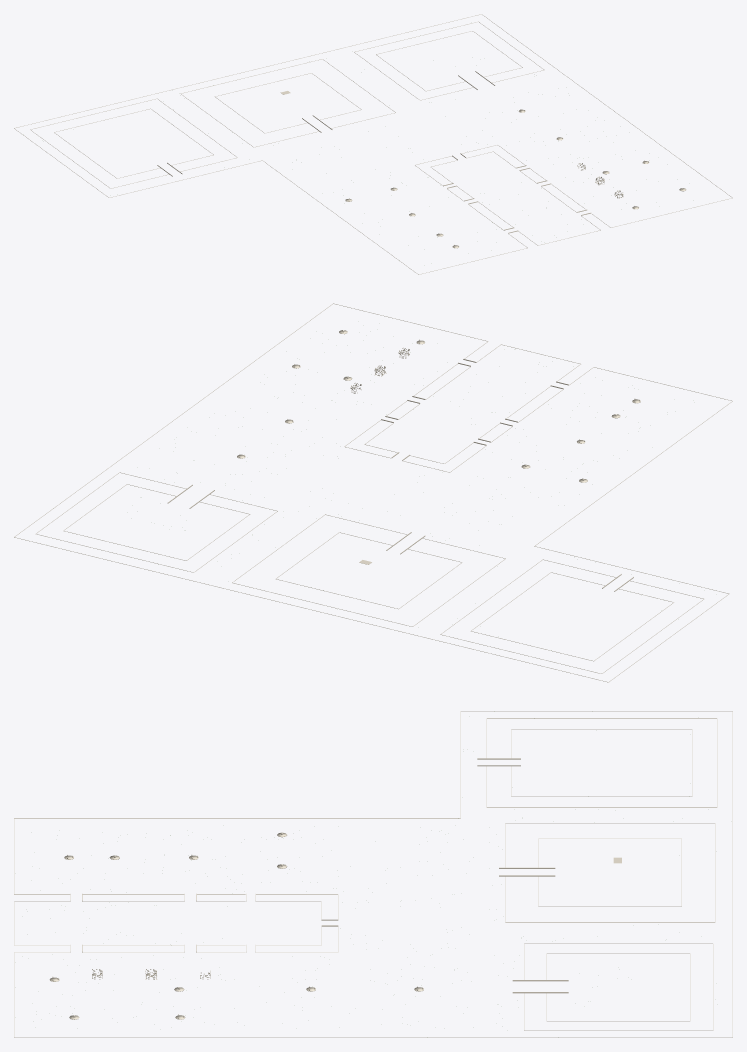
File: Neris-10.glb
The picture shows the model from 3 angles, top to bottom: view 1: azimuth 30°, elevation 25°; view 2: azimuth 150°, elevation 25°; view 3: azimuth 270°, elevation 25°; orthographic projection. The views are drawn at different scales.
Parts seen in each view (by area): view 1: Pale Carved Stone; view 2: Pale Carved Stone; view 3: Pale Carved Stone.
Boxes of the visible parts, x1,y1,x2,y2 form: Pale Carved Stone: (14,14,732,274); Pale Carved Stone: (14,303,732,682); Pale Carved Stone: (14,711,732,1037).
Bounding box in the file's own units: 744 × 13.15 × 692.
